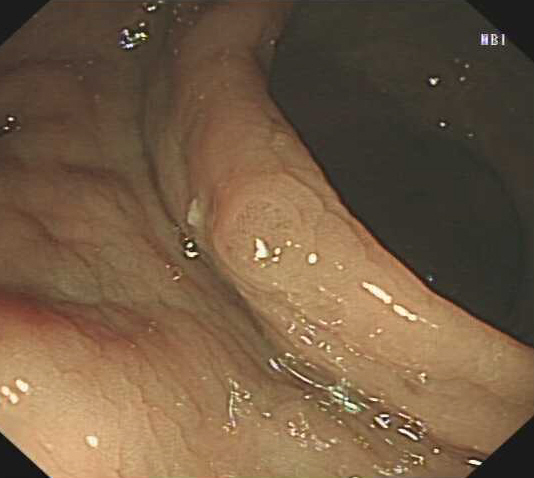others: (211, 169, 366, 317)
